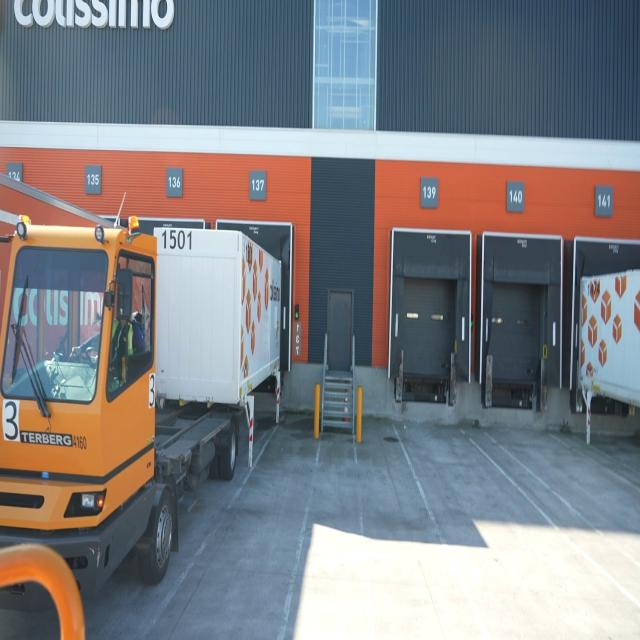Code: (159, 224, 195, 253)
